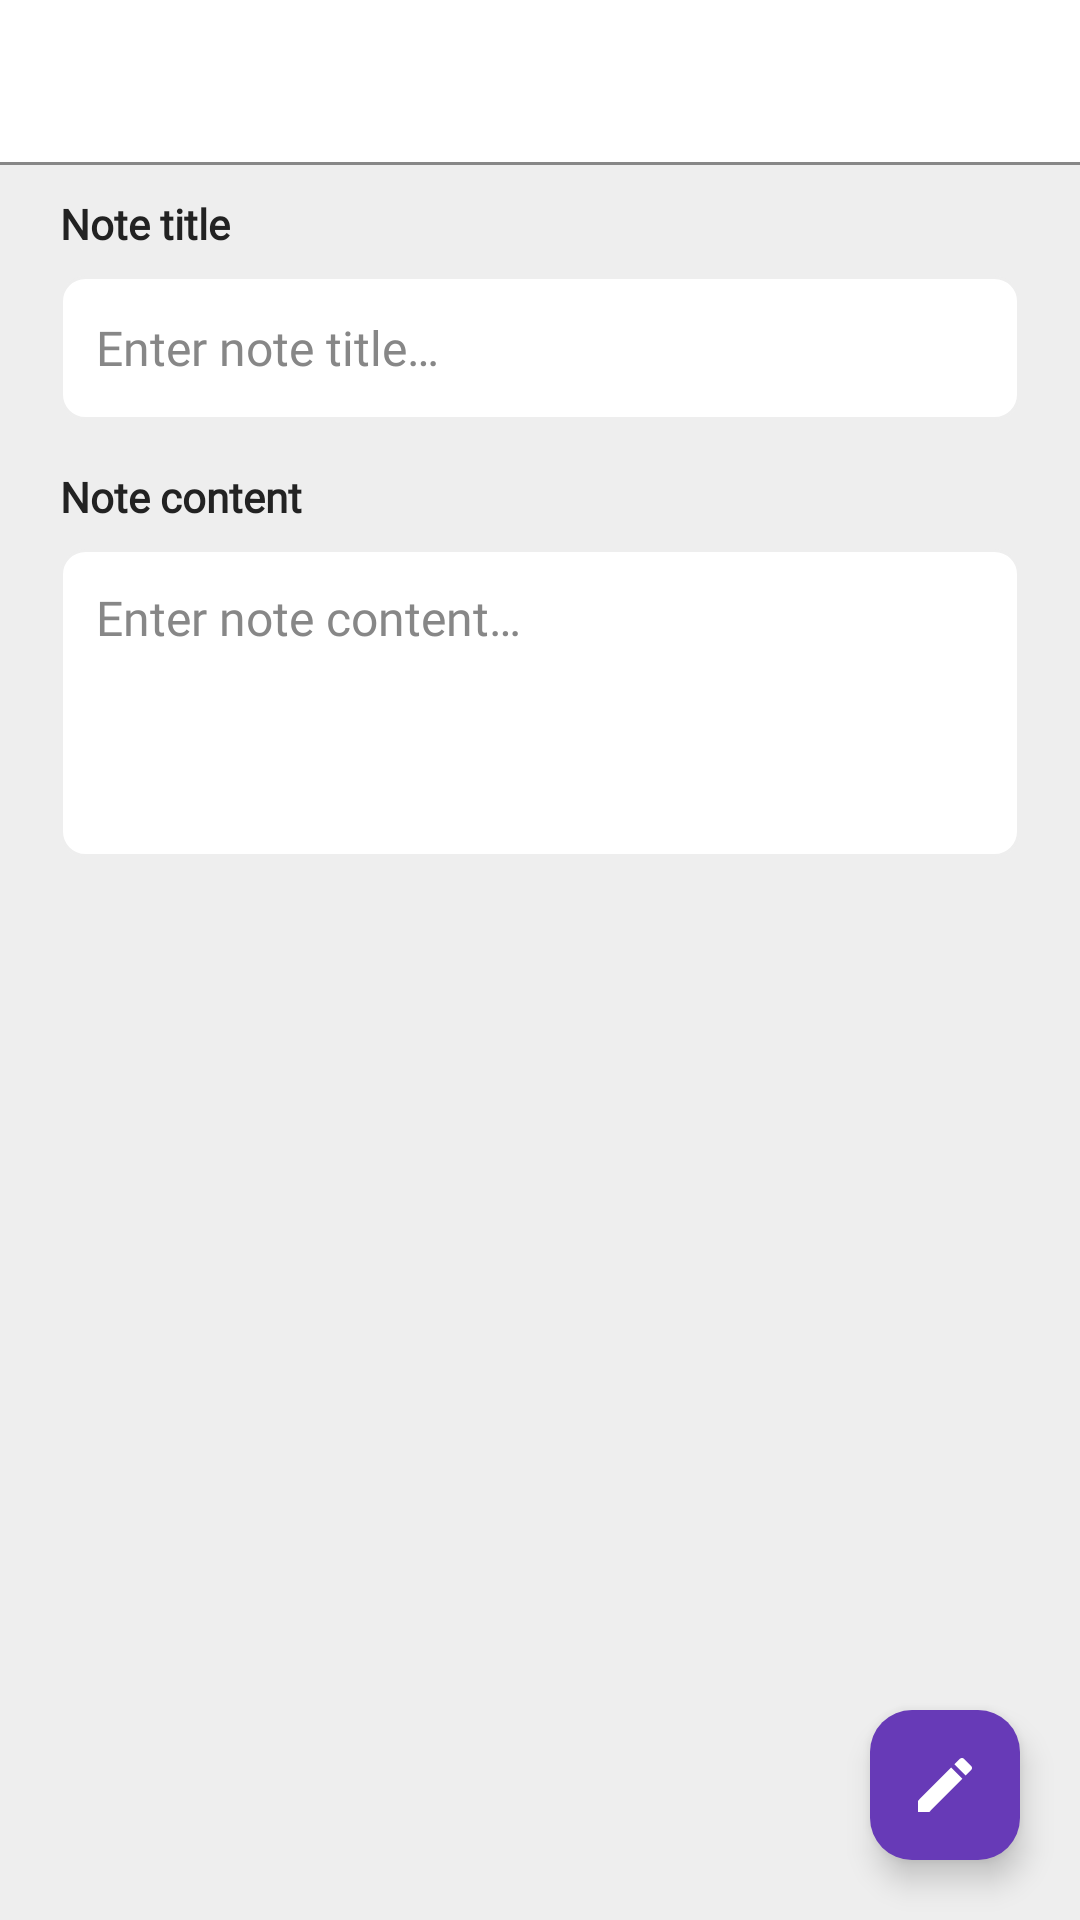

Screen size 1080px x 1920px. Icon name, then its box in pixels as [x1, y1, x2, y2]:
Create note: [870, 1710, 1020, 1860]
